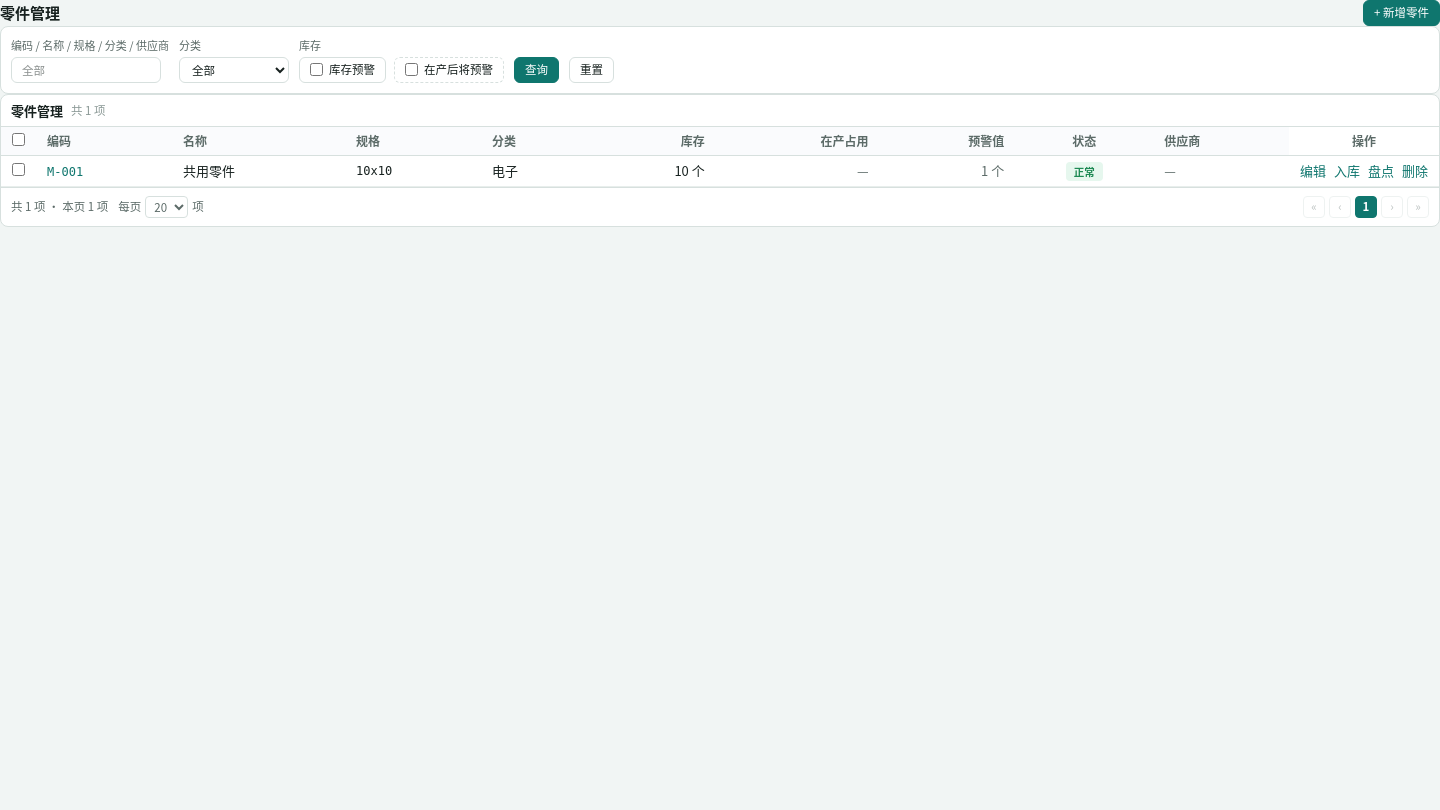
Scenario: lists the products that reference the part and keeps the part
This screenshot has width=1440, height=810.
Click the button "删除" at (1415, 171), box [1402, 161, 1428, 181]
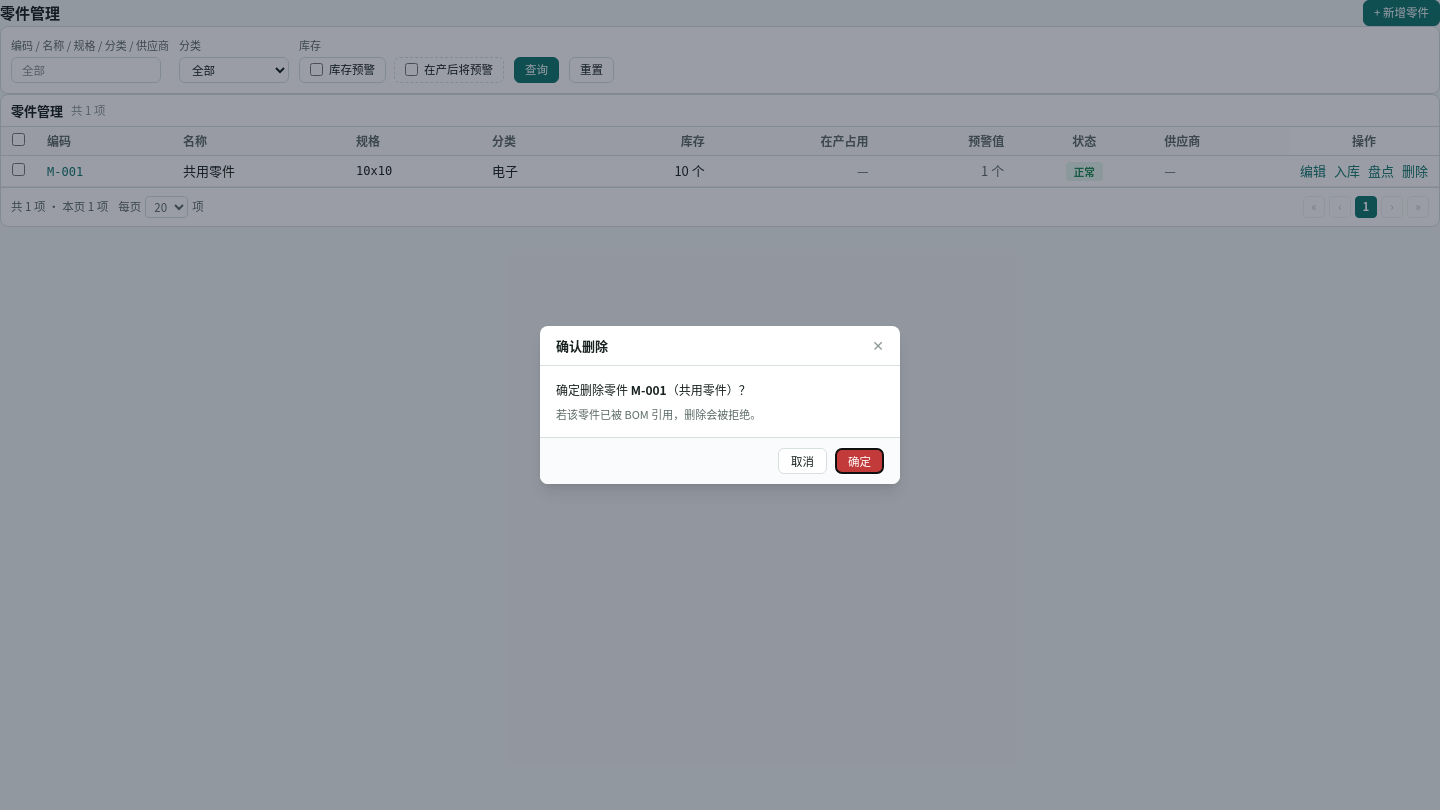
Click the button "确定" at (860, 461), box [835, 448, 884, 474]
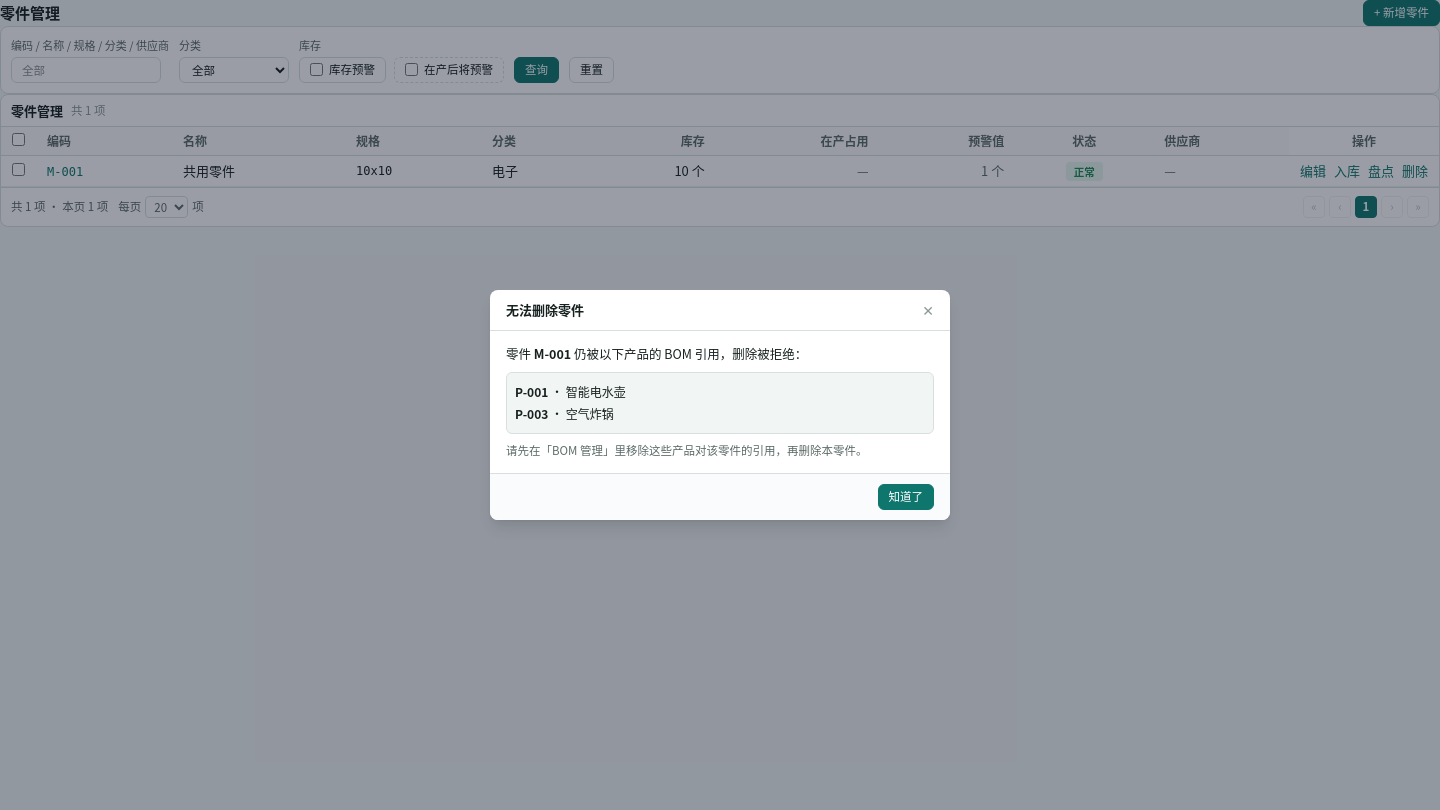
Expected: the list named "引用该零件的产品" shows "P-001", [515, 382, 548, 400]
Expected: the list named "引用该零件的产品" shows "智能电水壶", [566, 382, 626, 400]
Expected: the list named "引用该零件的产品" shows "P-003", [515, 404, 548, 422]
